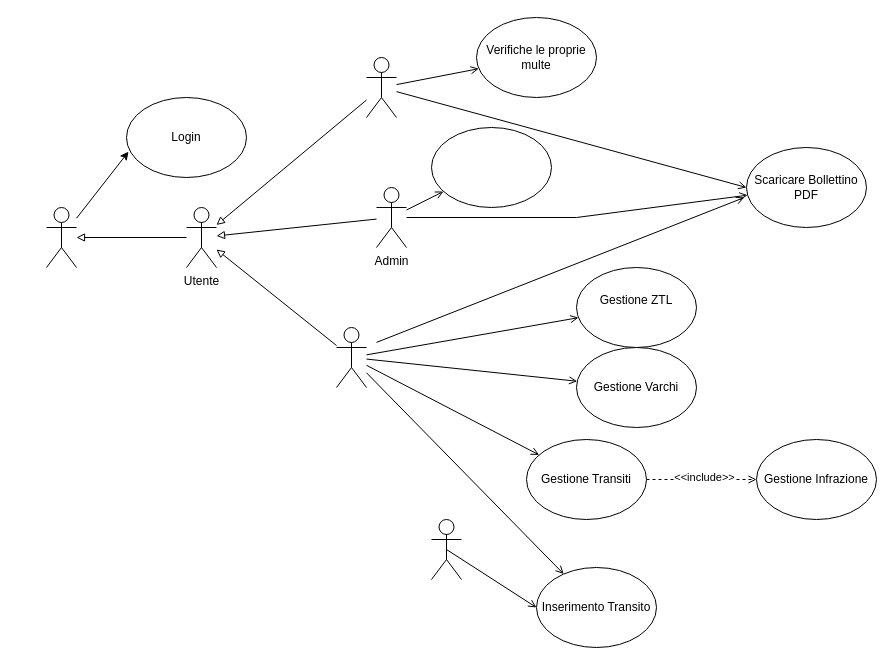
Image size: 894x665. Some labels were removed from this diagram. The box of each missing label's shape, as (x1, y1, x2, y2) in pixels:
Automobilista: (366, 56, 396, 118)
Operatore: (336, 326, 366, 388)
Ricarica Credito: (430, 126, 552, 208)
Utente Non Auth: (46, 206, 76, 268)
Varco: (430, 518, 462, 580)
